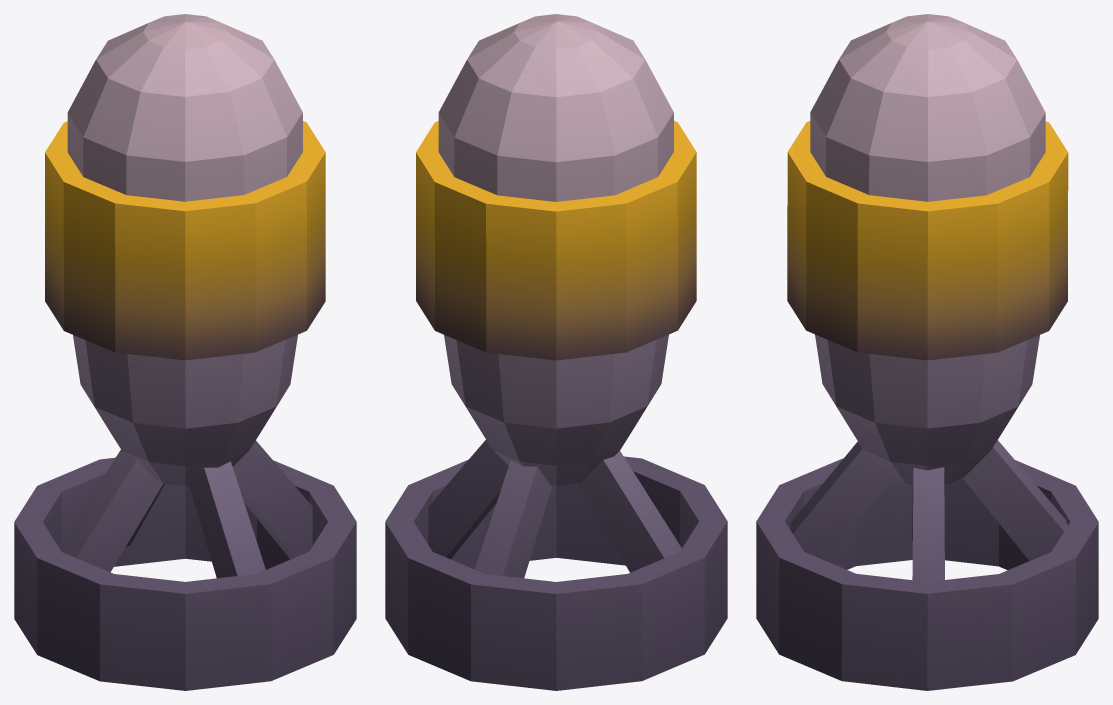
Rendered from Tank_Shell_Yellow.fbx.
3 renders of one model, left to right at view 1: azimuth 30°, elevation 25°; view 2: azimuth 150°, elevation 25°; view 3: azimuth 270°, elevation 25°, orthographic.
Parts seen in each view (by area): view 1: Round Tank Shell; view 2: Round Tank Shell; view 3: Round Tank Shell.
Boxes of the visible parts, x1,y1,x2,y2 form: Round Tank Shell: [14, 14, 356, 690]; Round Tank Shell: [385, 14, 727, 690]; Round Tank Shell: [756, 14, 1098, 690].
Bounding box in the file's own units: 47.69 × 91.74 × 47.72.
